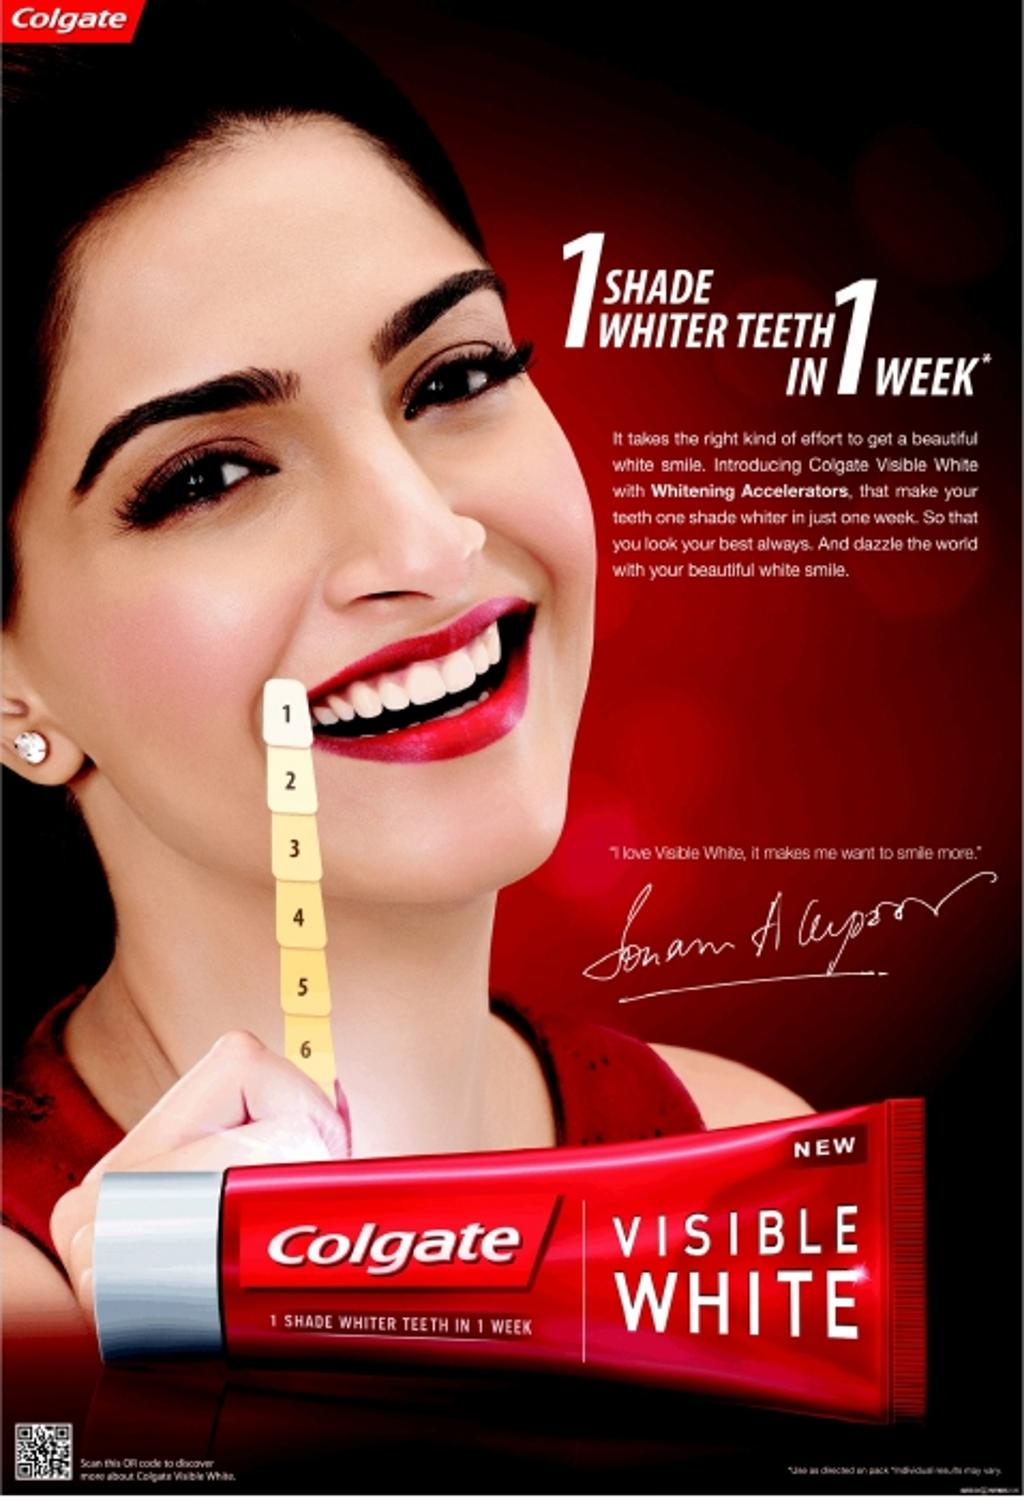face: (32, 108, 594, 883)
